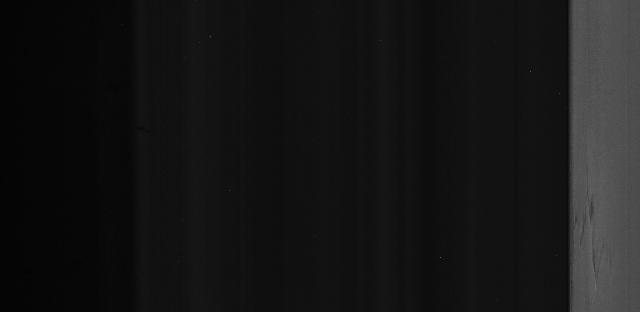silk_spot: (570, 175, 619, 285)
